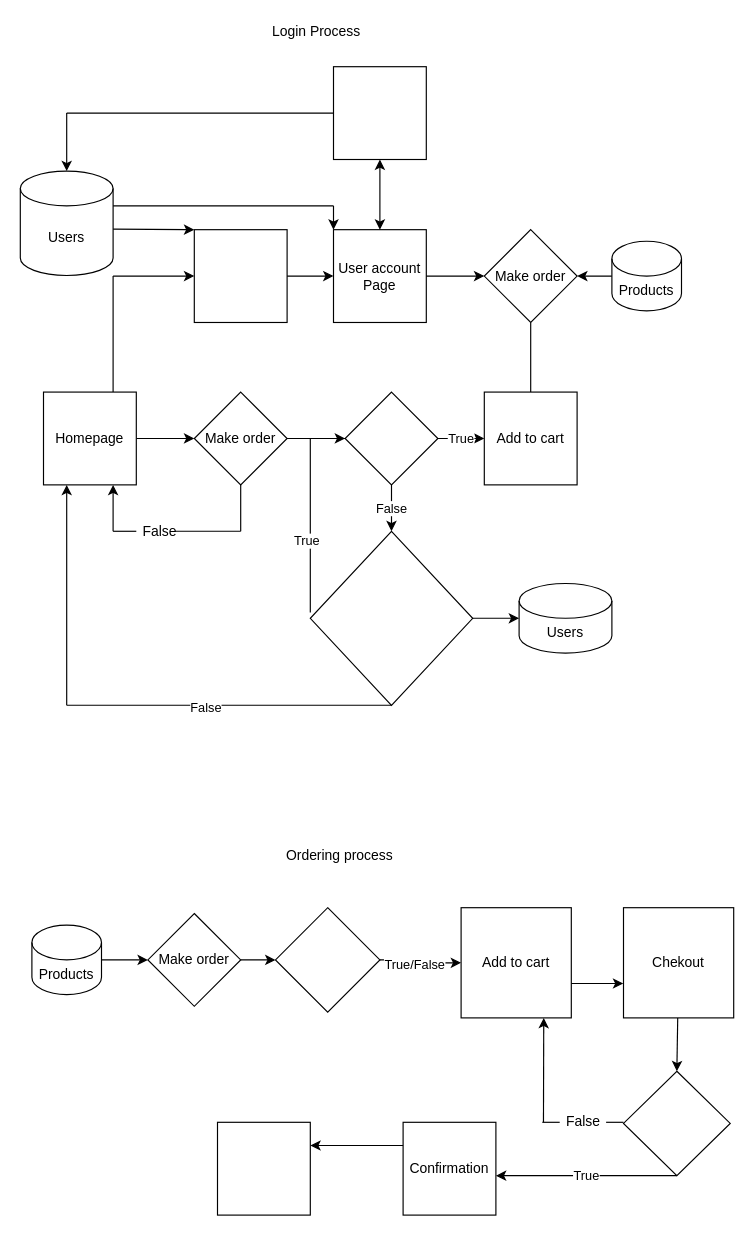
This 754x1235 diagram has some shape labels left out. The shapes that lost their labels are listed below. From the top down, each one's centre as x and y in pixels, then its label:
(x=379, y=113): Edit Account
(x=240, y=275): Login
(x=391, y=438): Log in
(x=391, y=617): Register
(x=327, y=959): Change order
(x=676, y=1123): Payment
(x=263, y=1168): Pickup order
